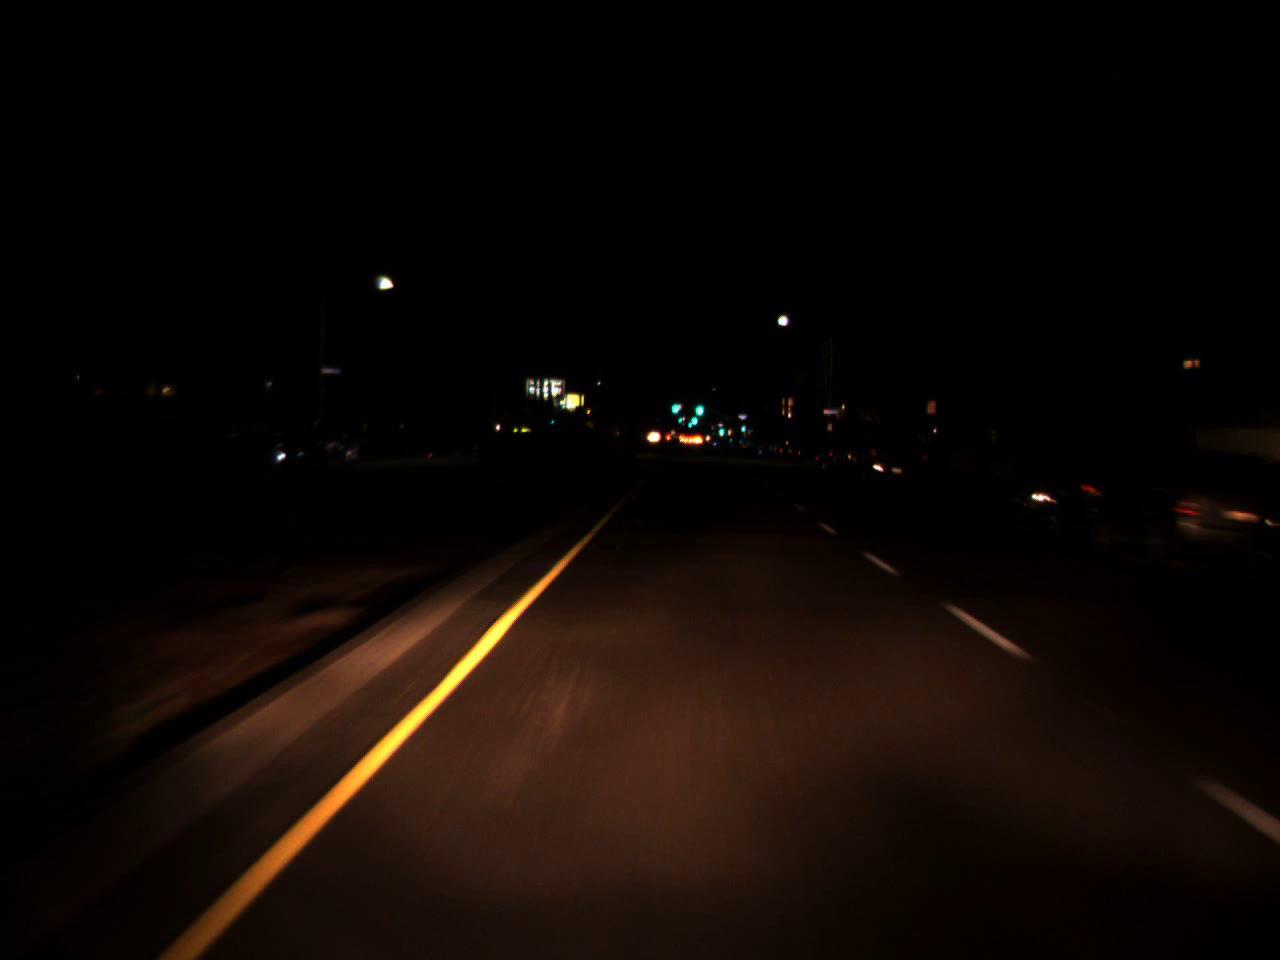go: (685, 406, 699, 430), (669, 393, 679, 417), (675, 407, 684, 425), (695, 399, 703, 417), (718, 422, 725, 437), (739, 421, 746, 433), (686, 416, 693, 428)
